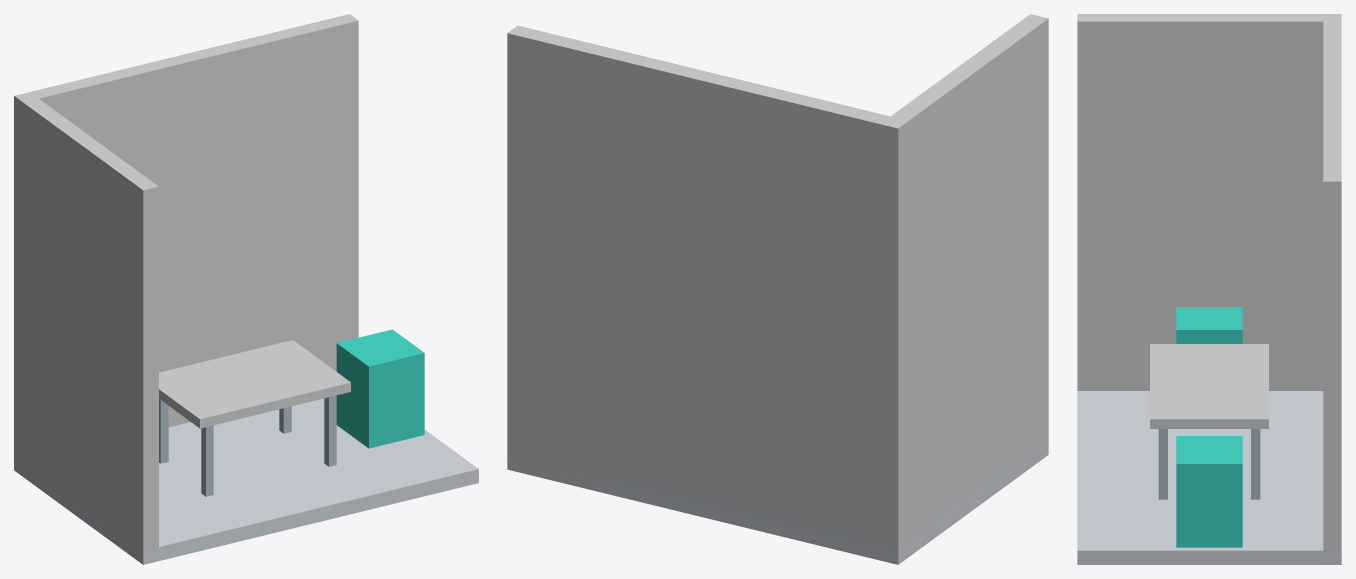
The picture shows the model from 3 angles, left to right: view 1: azimuth 30°, elevation 25°; view 2: azimuth 150°, elevation 25°; view 3: azimuth 270°, elevation 25°; orthographic projection. The views are drawn at different scales.
Parts seen in each view (by area): view 1: Exhibition Booth Concept; view 2: Exhibition Booth Concept; view 3: Exhibition Booth Concept.
Part boxes in pixels (x1,y1,x2,y2): Exhibition Booth Concept: (14,14,478,564); Exhibition Booth Concept: (507,14,1048,564); Exhibition Booth Concept: (1077,14,1341,564).
Size of the model in its own units: 3 by 3.2 by 2.
